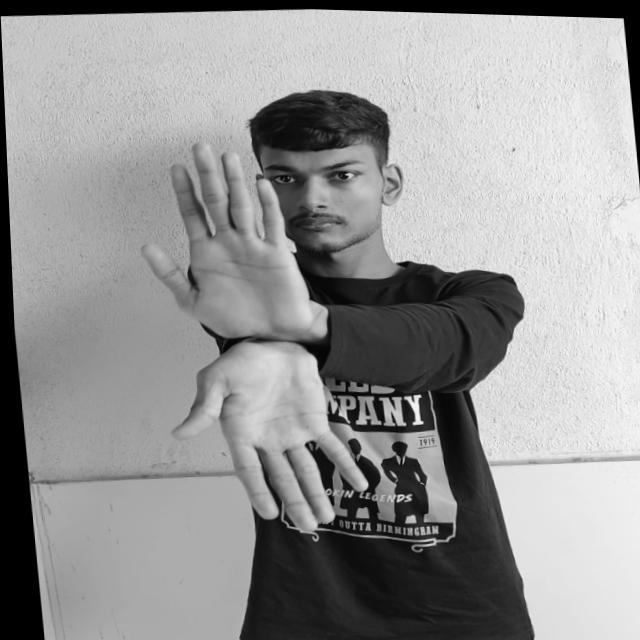Morning: (125, 130, 368, 536)
